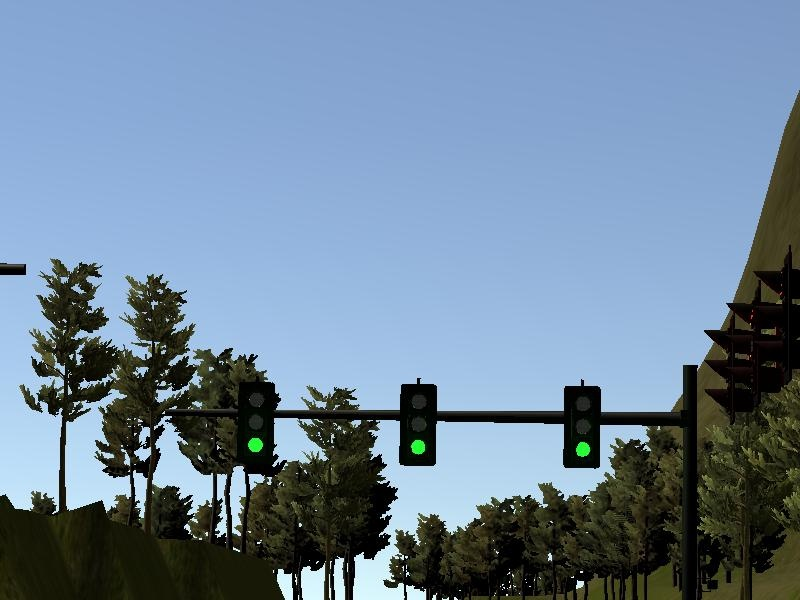traffic_light_green: (216, 380, 662, 468)
